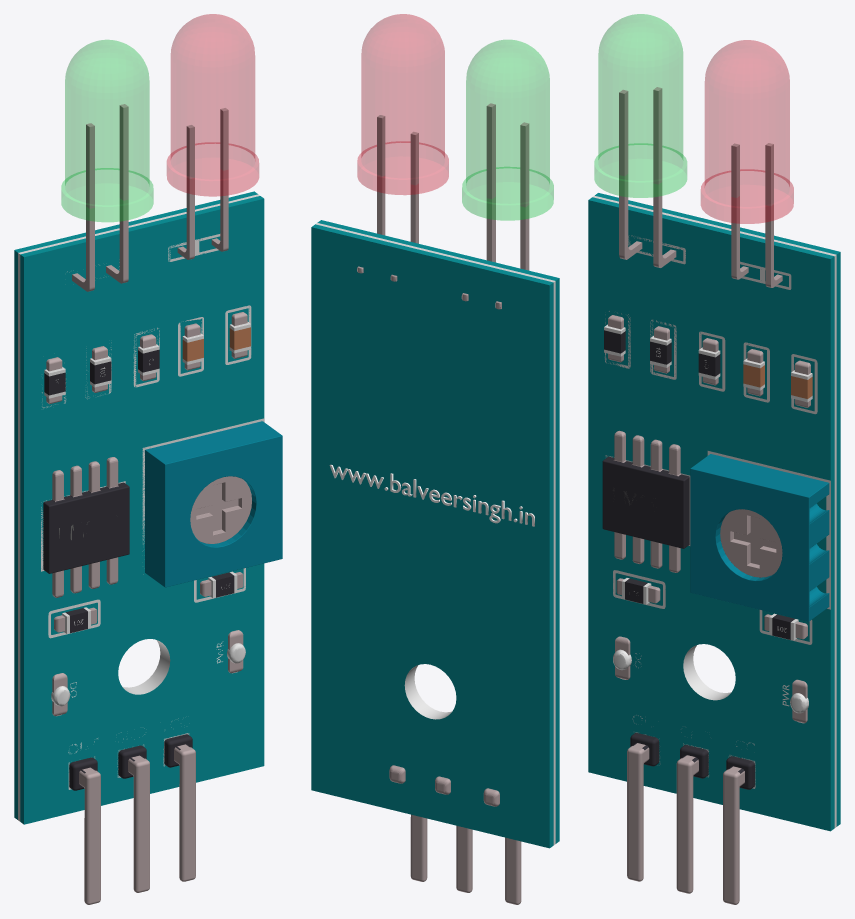
Rendered from sinusoid.glb.
The picture shows the model from 3 angles, left to right: view 1: azimuth 30°, elevation 25°; view 2: azimuth 150°, elevation 25°; view 3: azimuth 330°, elevation 25°; orthographic projection.
Visible parts, largest first — view 1: IR Sensor, PotentioMeter, cos_y, sin_y, LM393_IC, MalePins.001, Transsmitter, PotentioMeter.001, BC_Capacitor, Receiver, OC_Capacitor, BC_Capacitor.001 (+3 smaller); view 2: IR Sensor, sin_y, cos_y, MalePins.001, Transsmitter, Receiver, Text.011; view 3: IR Sensor, PotentioMeter, sin_y, cos_y, LM393_IC, MalePins.001, Transsmitter, PotentioMeter.001, BC_Capacitor, Receiver, OC_Capacitor, BC_Capacitor.002 (+3 smaller).
Boxes of the visible parts, <box> form: IR Sensor: <box>14,191,264,824</box>; PotentioMeter: <box>145,421,282,587</box>; cos_y: <box>61,40,153,221</box>; sin_y: <box>167,14,258,196</box>; LM393_IC: <box>43,457,129,597</box>; MalePins.001: <box>69,734,195,904</box>; Transsmitter: <box>72,104,128,291</box>; PotentioMeter.001: <box>190,476,251,543</box>; BC_Capacitor: <box>44,334,159,404</box>; Receiver: <box>177,108,228,259</box>; OC_Capacitor: <box>182,312,250,370</box>; BC_Capacitor.001: <box>200,571,243,598</box>; IR Sensor: <box>311,220,559,848</box>; sin_y: <box>357,14,448,194</box>; cos_y: <box>462,40,553,220</box>; MalePins.001: <box>389,765,521,904</box>; Transsmitter: <box>461,103,529,309</box>; Receiver: <box>357,115,418,281</box>; Text.011: <box>329,464,534,526</box>; IR Sensor: <box>588,193,840,831</box>; PotentioMeter: <box>690,454,829,621</box>; sin_y: <box>701,40,793,223</box>; cos_y: <box>594,14,686,197</box>; LM393_IC: <box>602,430,689,572</box>; MalePins.001: <box>627,733,754,904</box>; Transsmitter: <box>619,87,676,267</box>; PotentioMeter.001: <box>720,509,782,577</box>; BC_Capacitor: <box>604,315,720,385</box>; Receiver: <box>731,143,782,287</box>; OC_Capacitor: <box>743,349,812,407</box>; BC_Capacitor.002: <box>616,578,660,604</box>.
Bounding box in the file's own units: 0.9344 × 3.19 × 0.3501.
